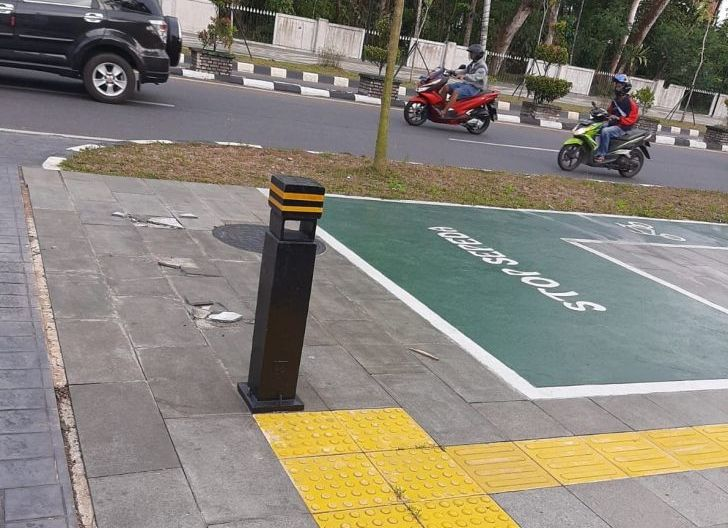bollard: (236, 175, 331, 413), (370, 75, 395, 178)
